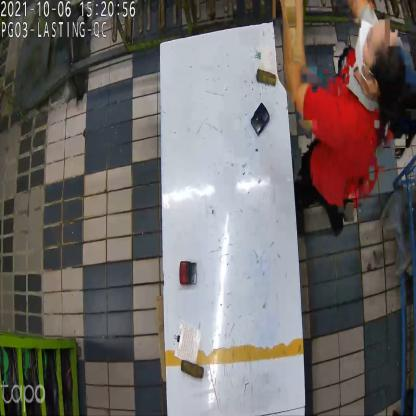stamp: (252, 102, 272, 138), (179, 257, 197, 287)
